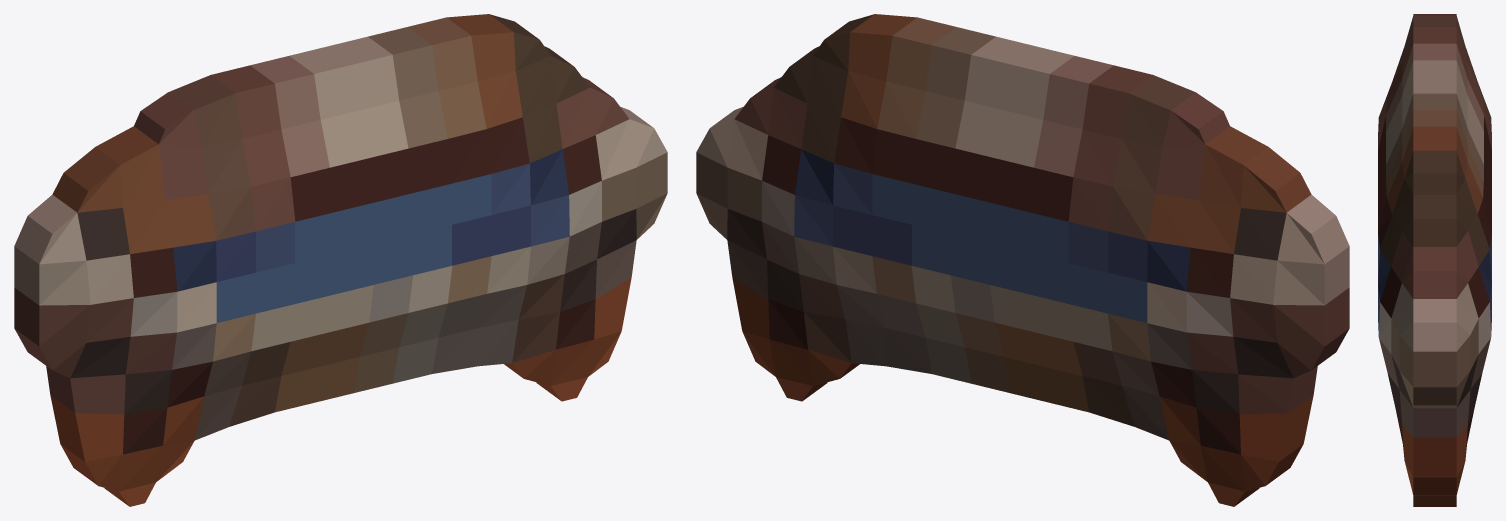
Rendered from pixel_pet_bed.l.a29caf3f.glb.
3 views of the same model, side by side, from view 1: azimuth 30°, elevation 25°; view 2: azimuth 150°, elevation 25°; view 3: azimuth 270°, elevation 25° (orthographic). The views are drawn at different scales.
Parts seen in each view (by area): view 1: pet_bed; view 2: pet_bed; view 3: pet_bed.
Part boxes in pixels (x1,y1,x2,y2): pet_bed: (14, 14, 667, 506); pet_bed: (696, 14, 1349, 506); pet_bed: (1378, 14, 1491, 506).
Size of the model in its own units: 0.9 by 0.5309 by 0.1632.
1 material, 1 textured.
